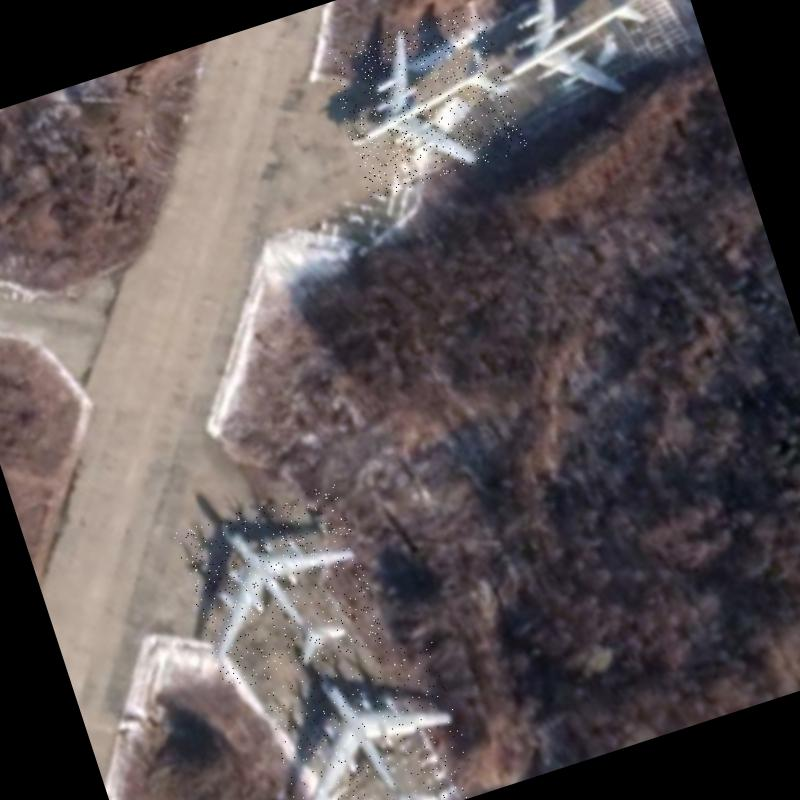A17: (173, 480, 388, 694), (323, 2, 529, 200), (259, 636, 481, 800), (470, 0, 673, 128)
